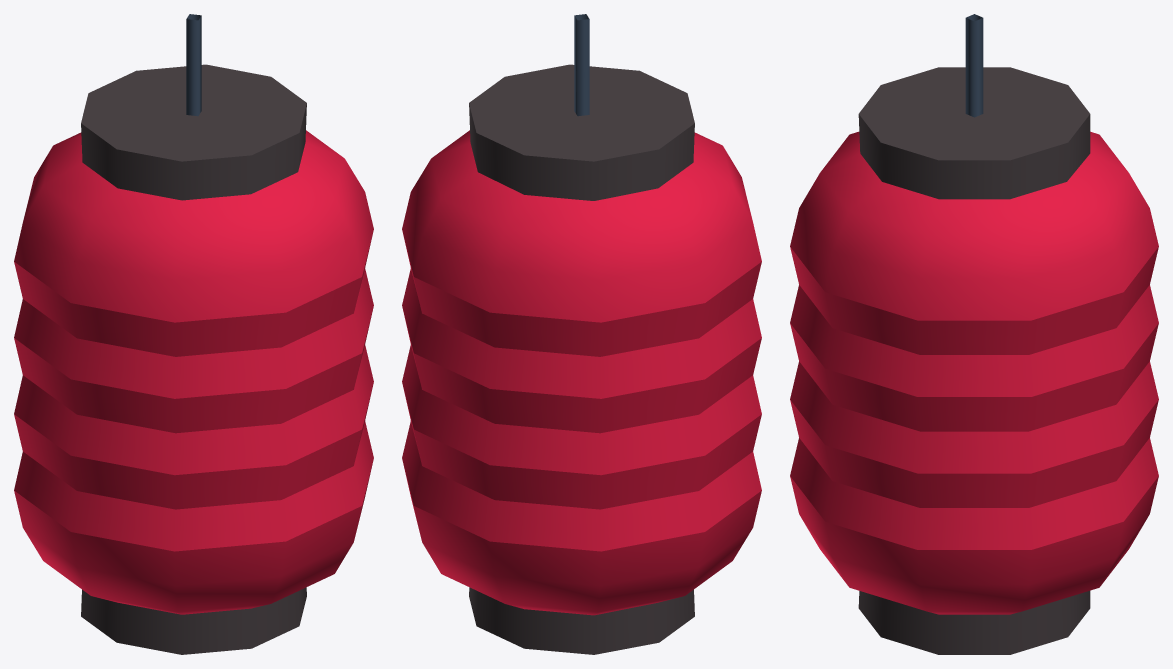
File: LanternA1_geo.fbx
3 renders of one model, left to right at view 1: azimuth 30°, elevation 25°; view 2: azimuth 150°, elevation 25°; view 3: azimuth 270°, elevation 25°, orthographic.
Visible parts, largest first — view 1: LanternA1_geo; view 2: LanternA1_geo; view 3: LanternA1_geo.
Part boxes in pixels (<box>): LanternA1_geo: <box>14,14,373,654</box>; LanternA1_geo: <box>402,14,761,654</box>; LanternA1_geo: <box>790,14,1158,654</box>.
Bounding box in the file's own units: 0.5162 × 0.5427 × 0.9587.
